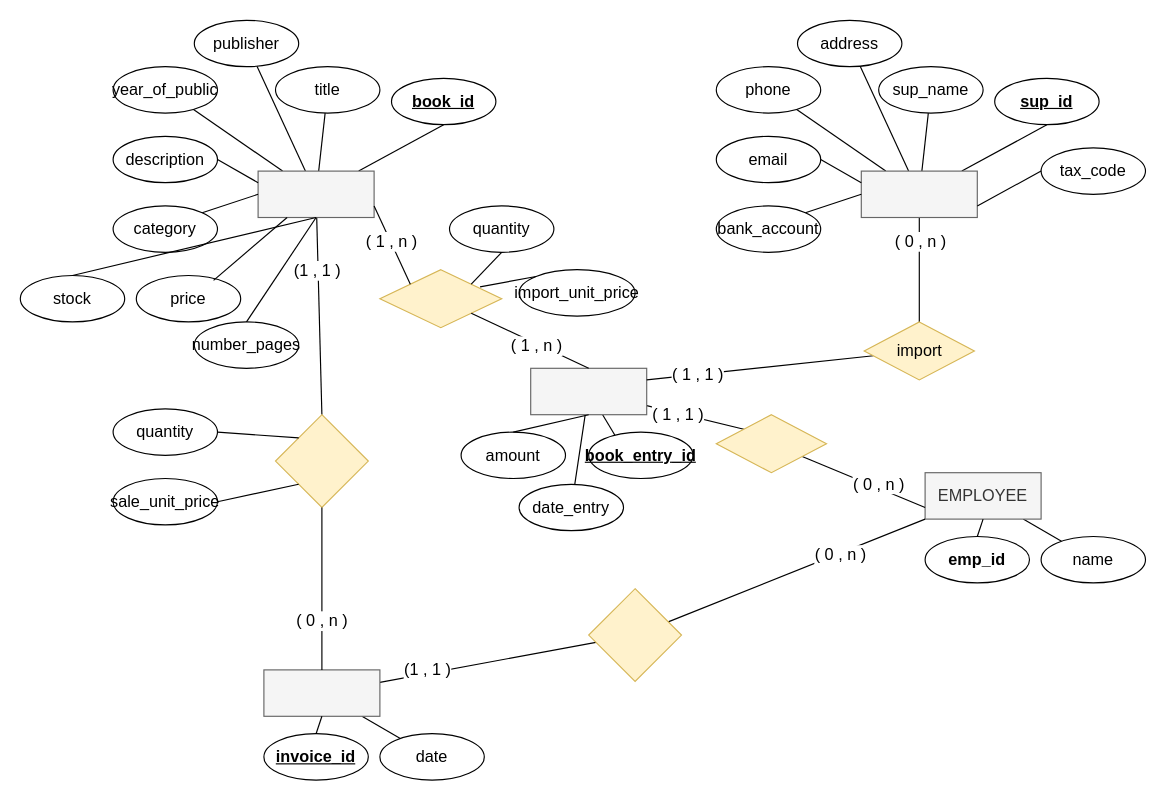
This 1166x800 diagram has some shape labels left out. The centre of each missing label's shape, as x and y in pixels:
BOOK: the point at 315,193
BOOK_ENTRY: the point at 588,391
create: the point at 635,635
has details of: the point at 440,298
include: the point at 321,460
INVOICE: the point at 321,692
make: the point at 770,443
SUPPLIER: the point at 918,193
